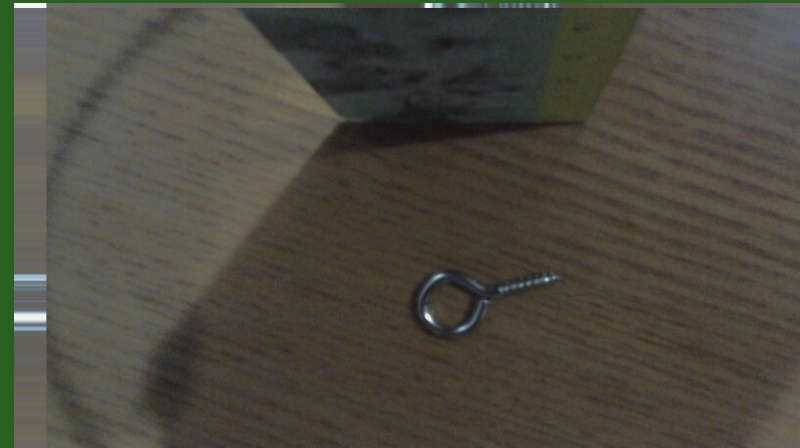O001: (410, 259, 569, 341)
